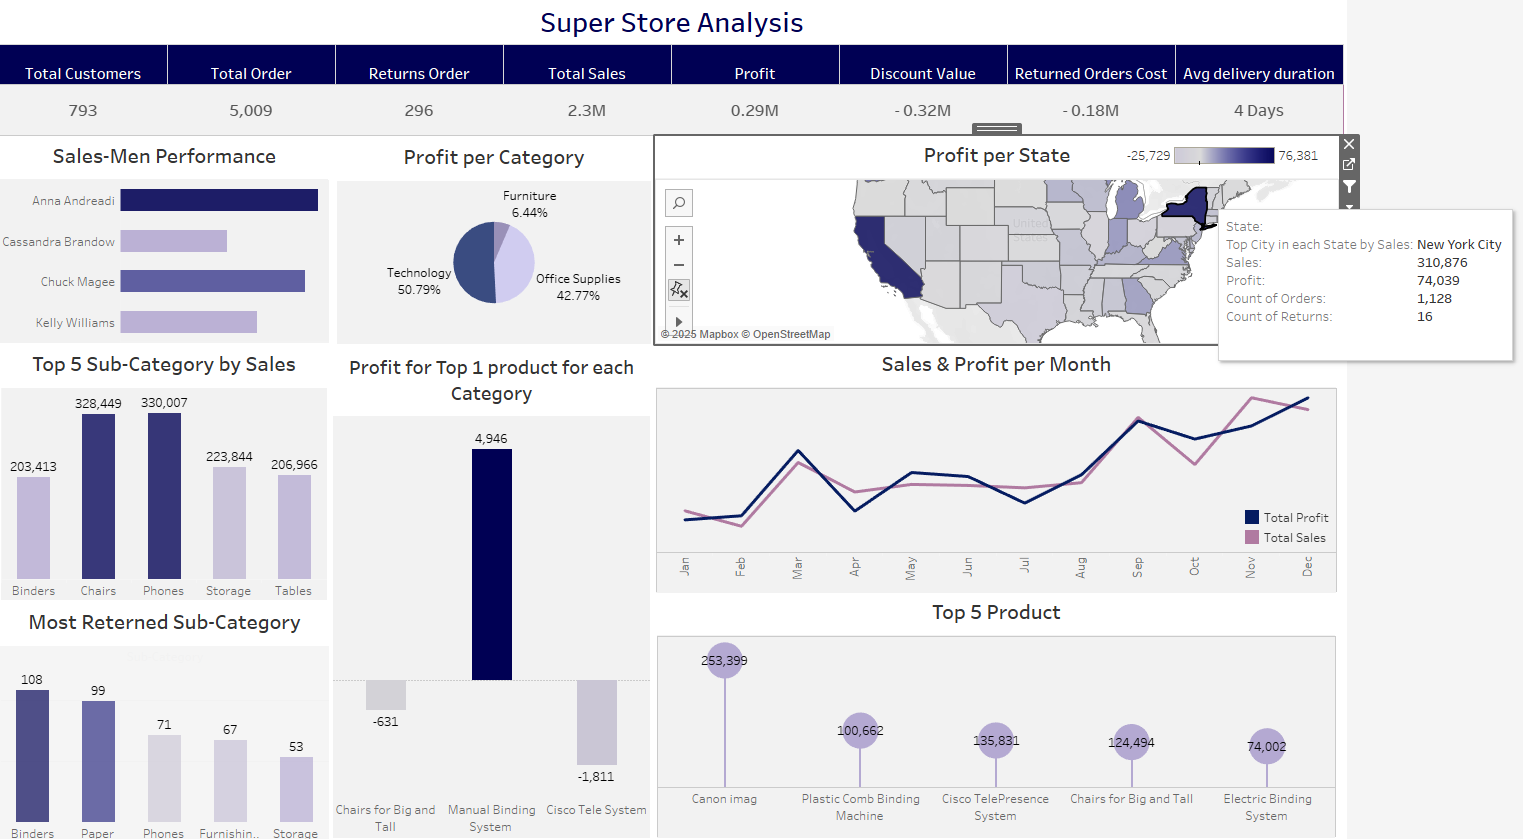

What the dashboard file says about the page in this screenshot:
{"tool":"tableau","page":{"name":"Super Store Analysis","canvas":[1000,1000],"units":"permille","ordinal":0},"visuals":[{"type":"title","box":[5.9,9.3,988.1,52.5]},{"type":"worksheet","title":"KPIs","mark":"Automatic","box":[1.5,61.8,996.3,108.5]},{"type":"worksheet","title":"Profit per State","mark":"Automatic","box":[487.4,169.2,506.7,242.7]},{"type":"worksheet","title":"Sales by Sales-Men","mark":"Bar","rows":["Person"],"cols":["Calculation_1333347007119671304"],"box":[2.2,170.4,243.7,240.4]},{"type":"worksheet","title":"Profit per Category","mark":"Pie","box":[251.8,171.5,232.6,240.4]},{"type":"legend","title":"Profit per State","param":"[federated.01jj03r1tv1ldn19yh2gz1p7oj7y].[sum:Profit:qk]","box":[834.1,177.4,148.2,29.2]},{"type":"worksheet","title":"Top Sales 5 Sub-Category","mark":"Automatic","rows":["Sales"],"cols":["Sub-Category"],"box":[3,413.1,241.5,297.6]},{"type":"worksheet","title":"Sales & Profit per Month","mark":"Line","rows":["Calculation_1333347007119671304","Calculation_1333347007119867913"],"cols":["Calculation_264867996363223041"],"box":[488.2,413.1,504.4,289.4]},{"type":"worksheet","title":"Profit for Top 1 product for each Category","mark":"Bar","rows":["Profit"],"cols":["Calculation_1154610397414662150"],"box":[248.9,417.7,234.8,570.6]},{"type":"worksheet","title":"Top 5 Product","mark":"Automatic","rows":["Sales","Sales"],"cols":["Product Name"],"box":[488.9,702.5,503,285.9]},{"type":"worksheet","title":"Most Reterned Sub-Category","mark":"Automatic","rows":["Returns_0AB84C8AF26648ACB48E50B596AB4C32"],"cols":["Sub-Category"],"box":[2.2,714.1,243.7,280.1]}]}

Visuals, with their boxes on the dashboard's canvas, which has no fixed pixel size, in thousandths of its width and height (x1, y1, x2, y2). These are canvas units, not pixel positions in the 1523x839 screenshot, which may show the page scaled, cropped or inside an application window:
title: (left=6, top=9, right=994, bottom=62)
"KPIs" worksheet: (left=2, top=62, right=998, bottom=170)
"Profit per State" worksheet: (left=487, top=169, right=994, bottom=412)
"Sales by Sales-Men" worksheet (Bar marks): (left=2, top=170, right=246, bottom=411)
"Profit per Category" worksheet (Pie marks): (left=252, top=172, right=484, bottom=412)
"Profit per State" legend: (left=834, top=177, right=982, bottom=207)
"Top Sales 5 Sub-Category" worksheet: (left=3, top=413, right=244, bottom=711)
"Sales & Profit per Month" worksheet (Line marks): (left=488, top=413, right=993, bottom=702)
"Profit for Top 1 product for each Category" worksheet (Bar marks): (left=249, top=418, right=484, bottom=988)
"Top 5 Product" worksheet: (left=489, top=702, right=992, bottom=988)
"Most Reterned Sub-Category" worksheet: (left=2, top=714, right=246, bottom=994)
